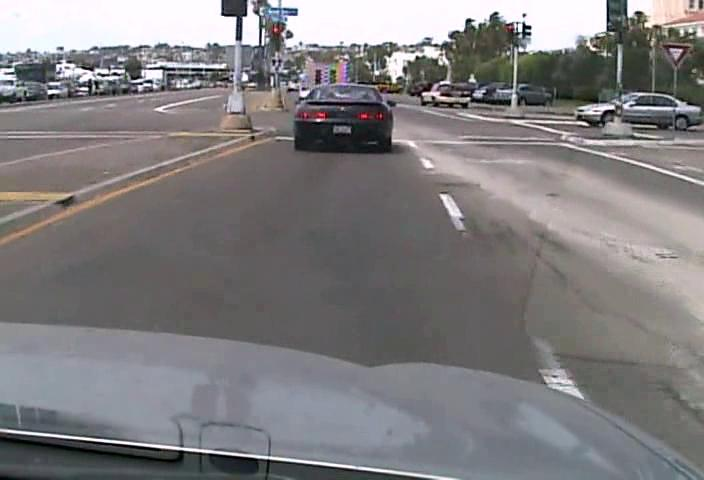yield: (660, 42, 693, 70)
